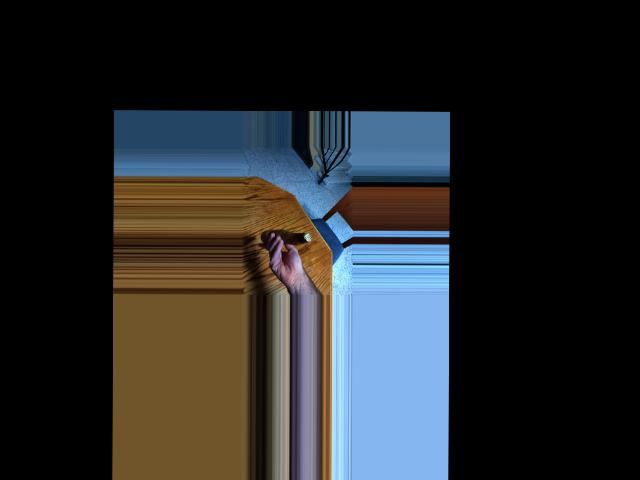sweet_potato: (264, 224, 305, 244)
